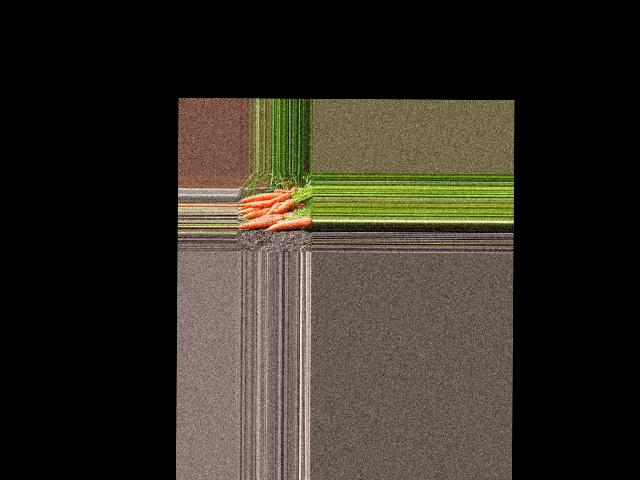carrot: (237, 192, 291, 207)
